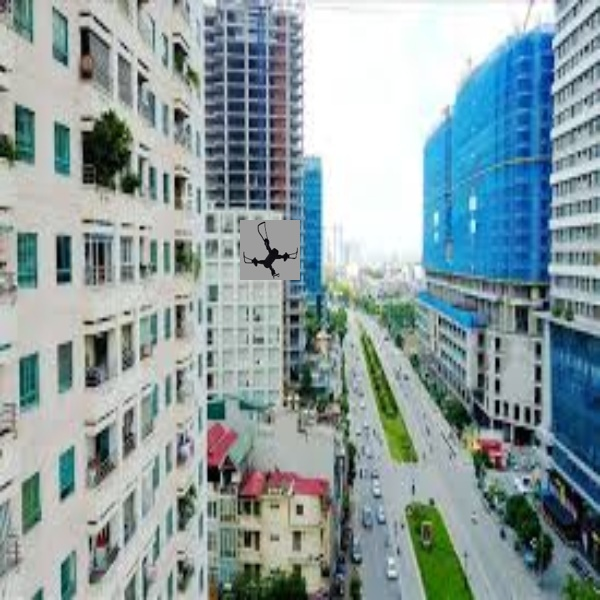drone: (241, 216, 297, 281)
